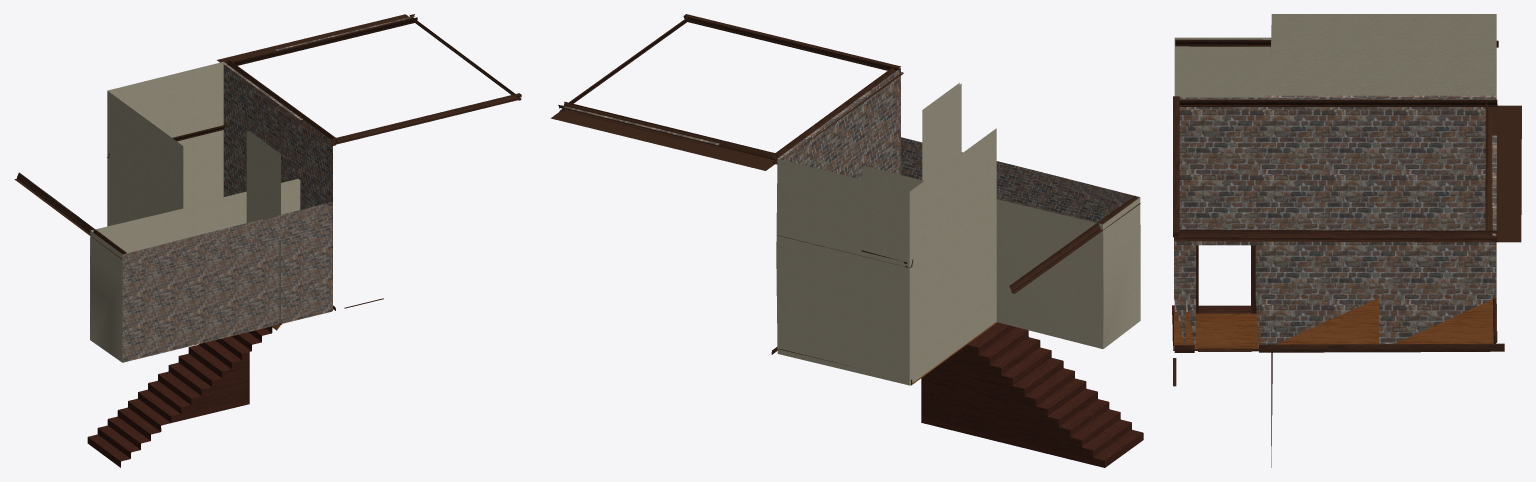
Rendered from mdl_brush_hubstarting.gltf.
The picture shows the model from 3 angles, left to right: view 1: azimuth 30°, elevation 25°; view 2: azimuth 150°, elevation 25°; view 3: azimuth 270°, elevation 25°; orthographic projection. The views are drawn at different scales.
Visible parts, largest first — view 1: Wall Textures Bake.003; view 2: Wall Textures Bake.003; view 3: Wall Textures Bake.003.
Boxes of the visible parts, x1,y1,x2,y2 form: Wall Textures Bake.003: (14, 14, 521, 467); Wall Textures Bake.003: (550, 14, 1143, 467); Wall Textures Bake.003: (1172, 14, 1521, 467).
Bounding box in the file's own units: 25.58 × 16.7 × 12.97.
Materials: 5 (5 with a texture image).
